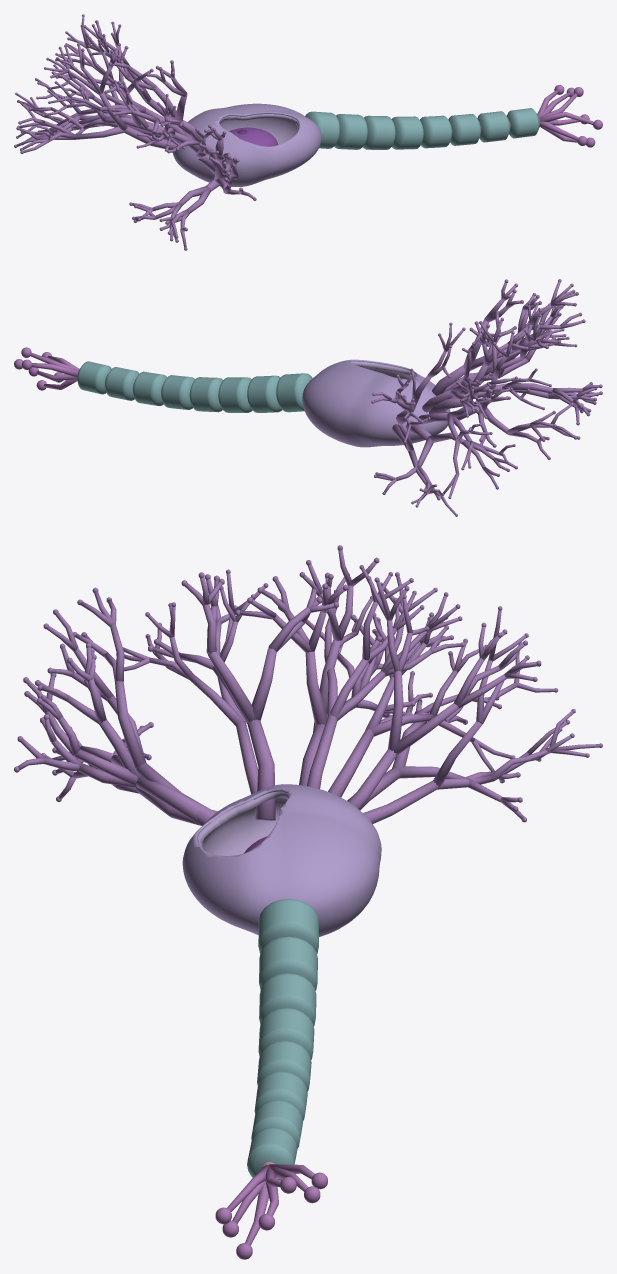
The model's file is neuron.glb.
The picture shows the model from 3 angles, top to bottom: view 1: azimuth 30°, elevation 25°; view 2: azimuth 150°, elevation 25°; view 3: azimuth 270°, elevation 25°; orthographic projection. The views are drawn at different scales.
Visible parts, largest first — view 1: dendrites, myelin, membrane, terminals, soma, nucleus; view 2: dendrites, membrane, myelin, terminals, soma; view 3: dendrites, membrane, myelin, terminals, soma.
Part boxes in pixels (<box>): dendrites: <box>14,14,256,250</box>; myelin: <box>305,108,539,149</box>; membrane: <box>173,103,321,186</box>; terminals: <box>537,85,602,147</box>; soma: <box>219,114,298,144</box>; nucleus: <box>229,127,278,146</box>; dendrites: <box>371,279,602,516</box>; membrane: <box>302,359,450,447</box>; myelin: <box>77,361,312,412</box>; terminals: <box>14,347,79,390</box>; soma: <box>349,361,416,379</box>; dendrites: <box>14,545,602,825</box>; membrane: <box>182,784,381,936</box>; myelin: <box>247,899,318,1180</box>; terminals: <box>215,1164,327,1259</box>; soma: <box>198,791,288,855</box>.
Bounding box in the file's own units: 11.85 × 4.16 × 6.62.
